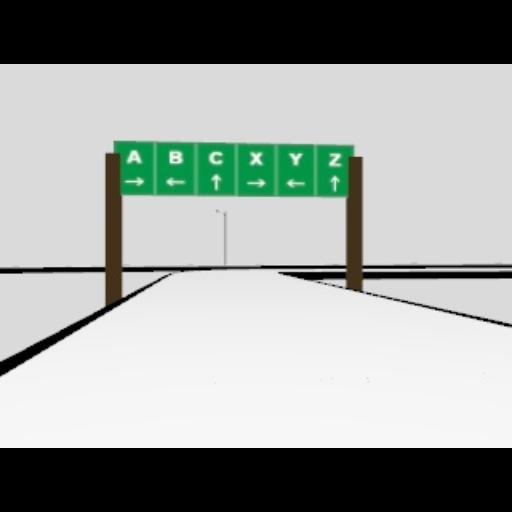A: (125, 149, 141, 163)
B: (168, 149, 182, 163)
C: (208, 151, 222, 165)
Left: (164, 176, 186, 186), (284, 177, 306, 187)
Right: (245, 177, 267, 187), (124, 176, 144, 186)
Straight: (210, 173, 220, 189), (329, 174, 339, 190)
X: (248, 151, 262, 165)
Y: (288, 151, 302, 165)
Z: (328, 152, 340, 166)
